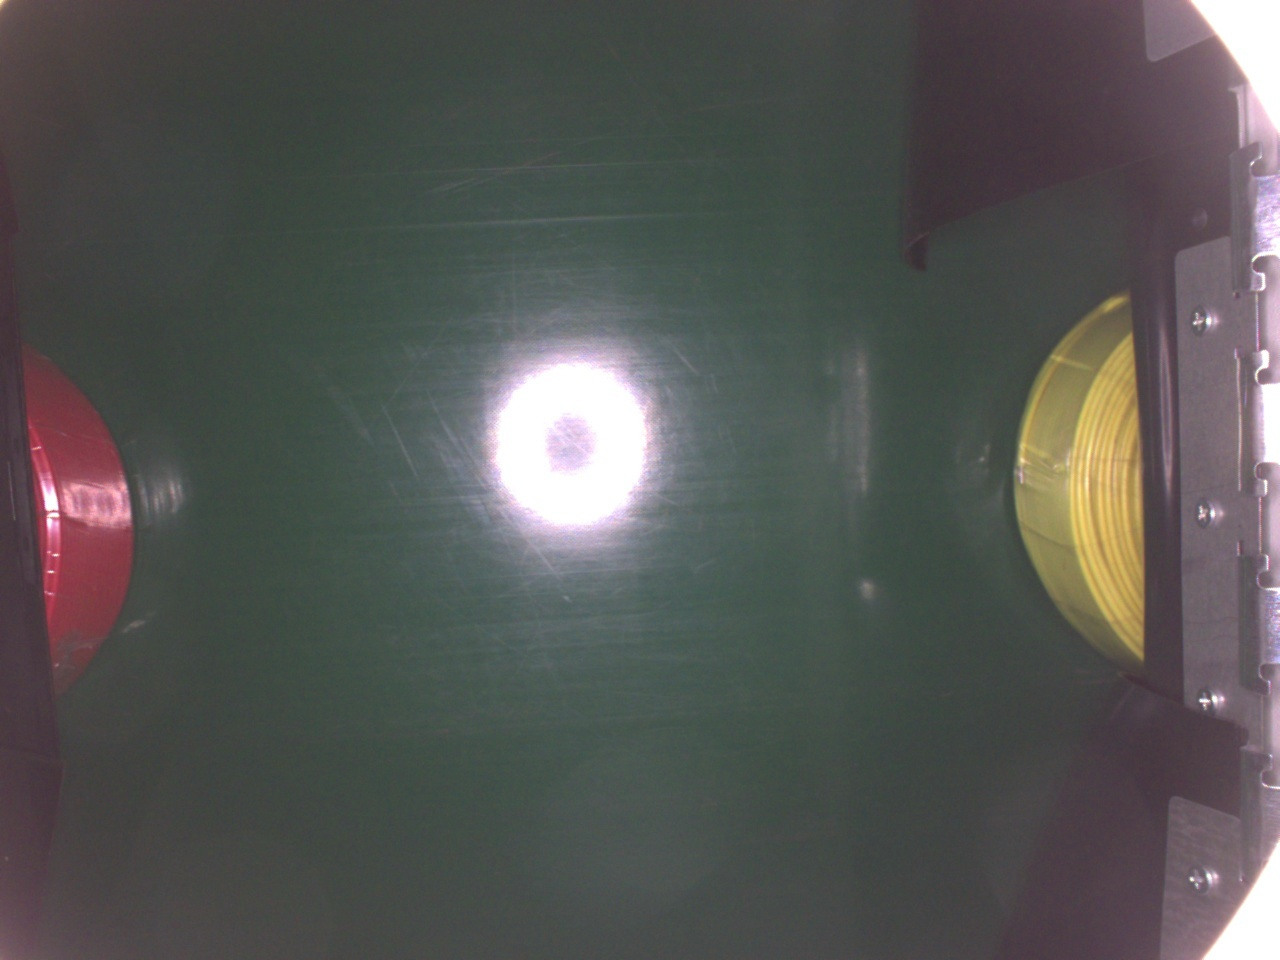yellow: (1014, 286, 1149, 671)
